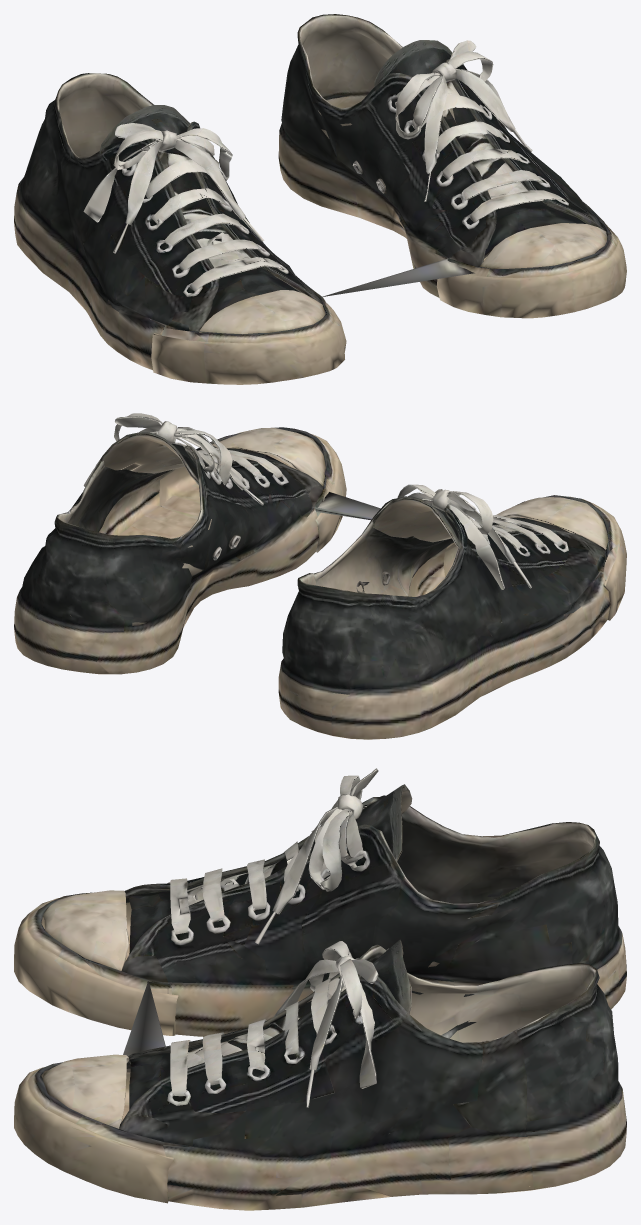
The model's file is mobile.glb.
3 views of the same model, one above another, from view 1: azimuth 30°, elevation 25°; view 2: azimuth 150°, elevation 25°; view 3: azimuth 270°, elevation 25° (orthographic). The views are drawn at different scales.
Visible parts, largest first — view 1: shoes; view 2: shoes; view 3: shoes.
Boxes of the visible parts, x1,y1,x2,y2 form: shoes: [14, 14, 626, 384]; shoes: [14, 413, 626, 739]; shoes: [14, 768, 626, 1210].
Size of the model in its own units: 0.3501 by 0.1274 by 0.3353.
Materials: 1 (1 with a texture image).
